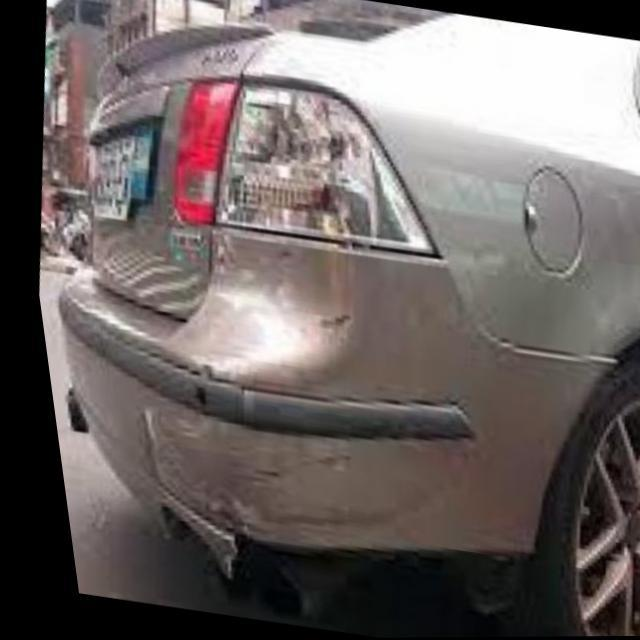crack: (110, 251, 361, 581)
